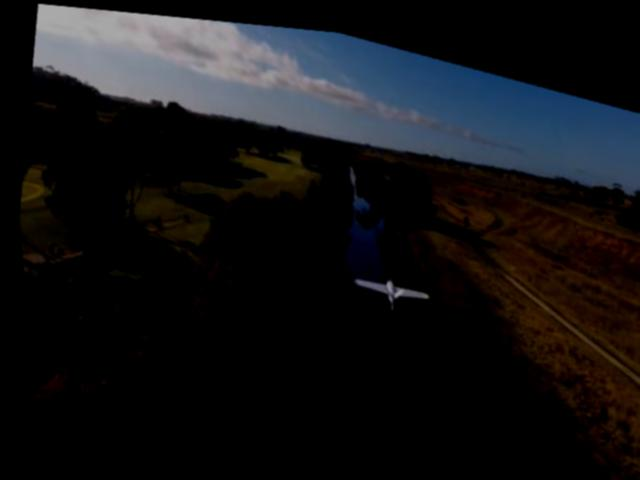uav: (342, 260, 427, 313)
